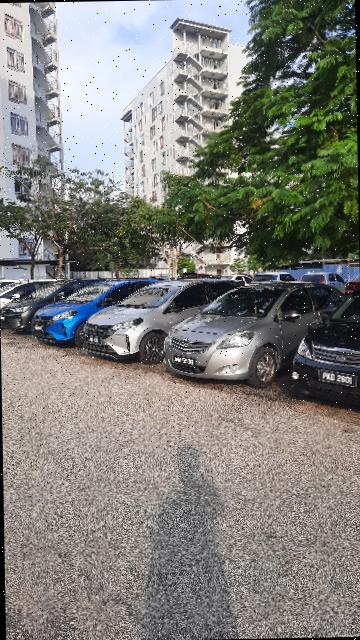License_Plate: (318, 367, 358, 390), (168, 354, 197, 373), (84, 334, 110, 347)
car: (163, 278, 353, 390), (78, 279, 249, 373), (35, 266, 154, 346), (288, 291, 360, 403), (1, 284, 101, 338)
